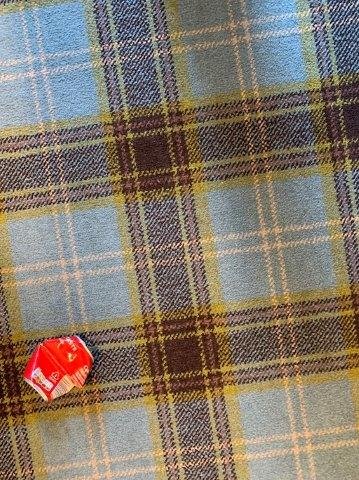kaleng: (23, 336, 94, 400)
